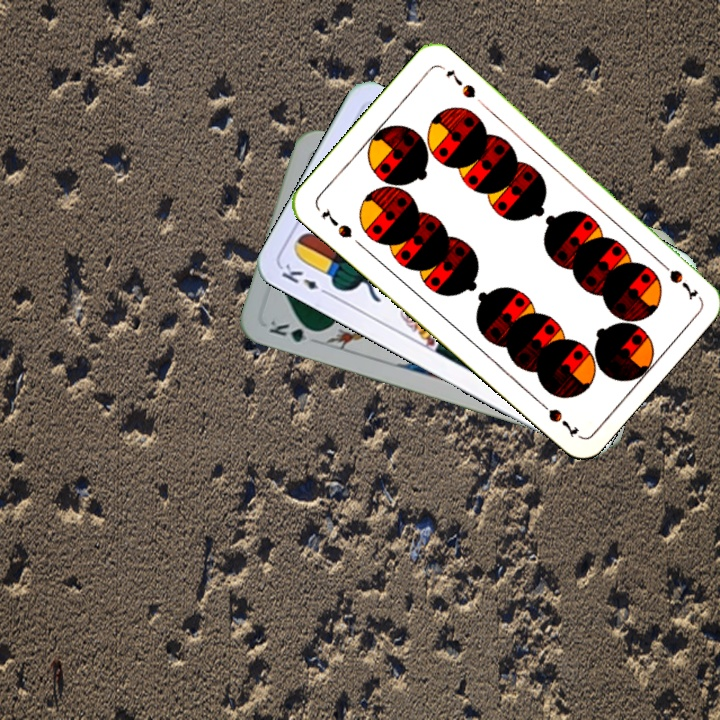EK: (277, 259, 333, 299)
GK: (265, 316, 323, 345)
S7: (653, 255, 700, 303), (317, 203, 355, 241)
